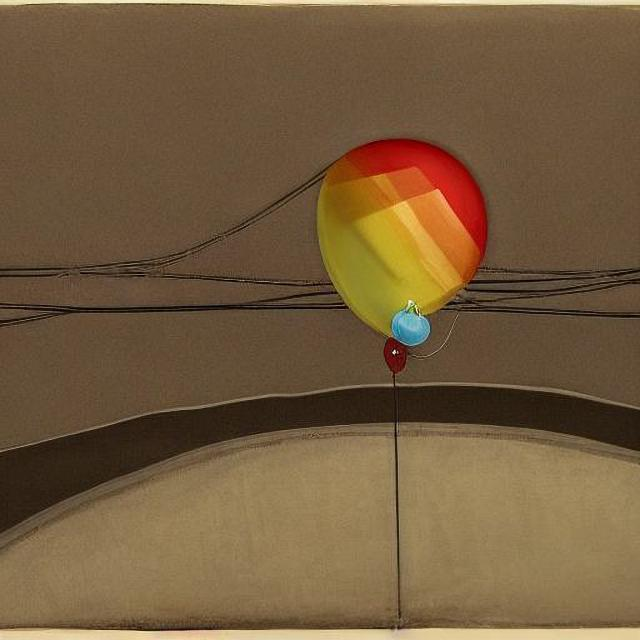balloon: (310, 130, 490, 340)
